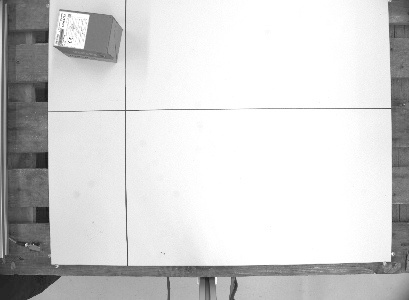b4: (51, 7, 123, 65)
